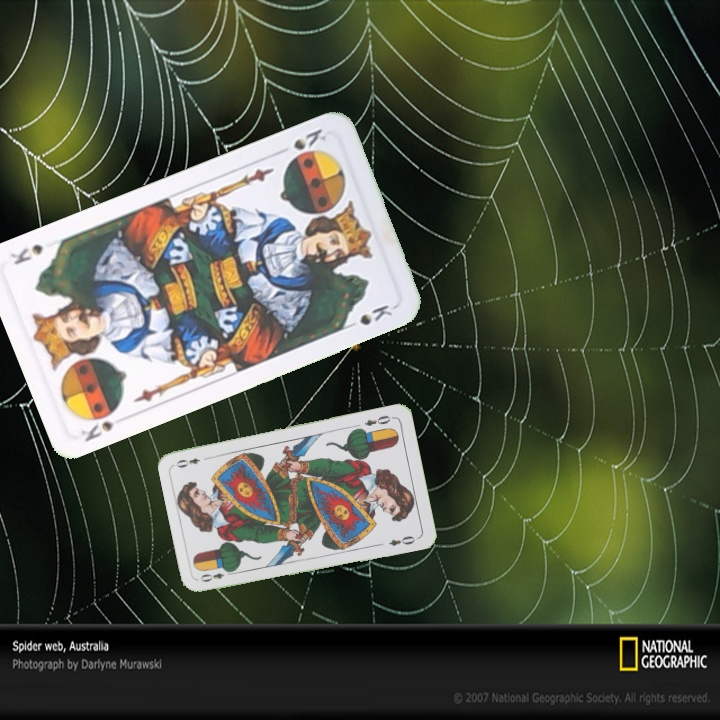EO: (196, 565, 236, 585), (360, 411, 393, 429)
SK: (77, 411, 130, 445), (284, 124, 329, 164)
